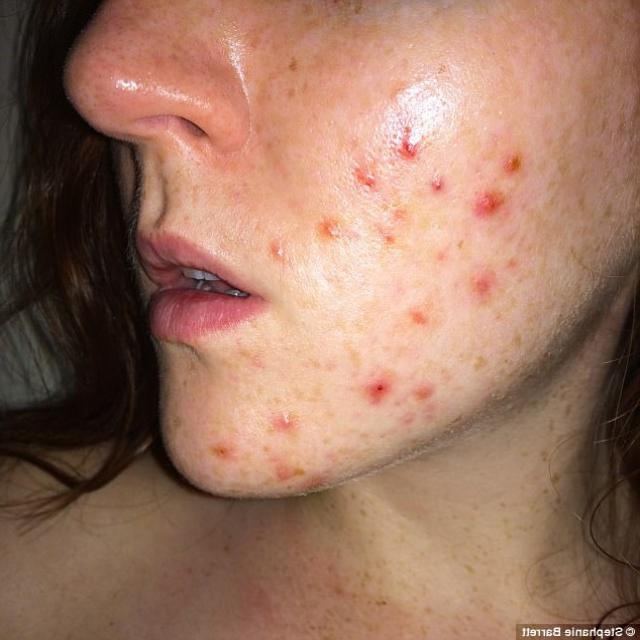Acne: (356, 372, 461, 421), (487, 150, 585, 189), (457, 188, 547, 226), (346, 150, 403, 200), (309, 206, 374, 249), (378, 125, 441, 167), (255, 238, 324, 274), (198, 435, 265, 470), (461, 262, 515, 303), (392, 294, 450, 332), (265, 397, 309, 435)
